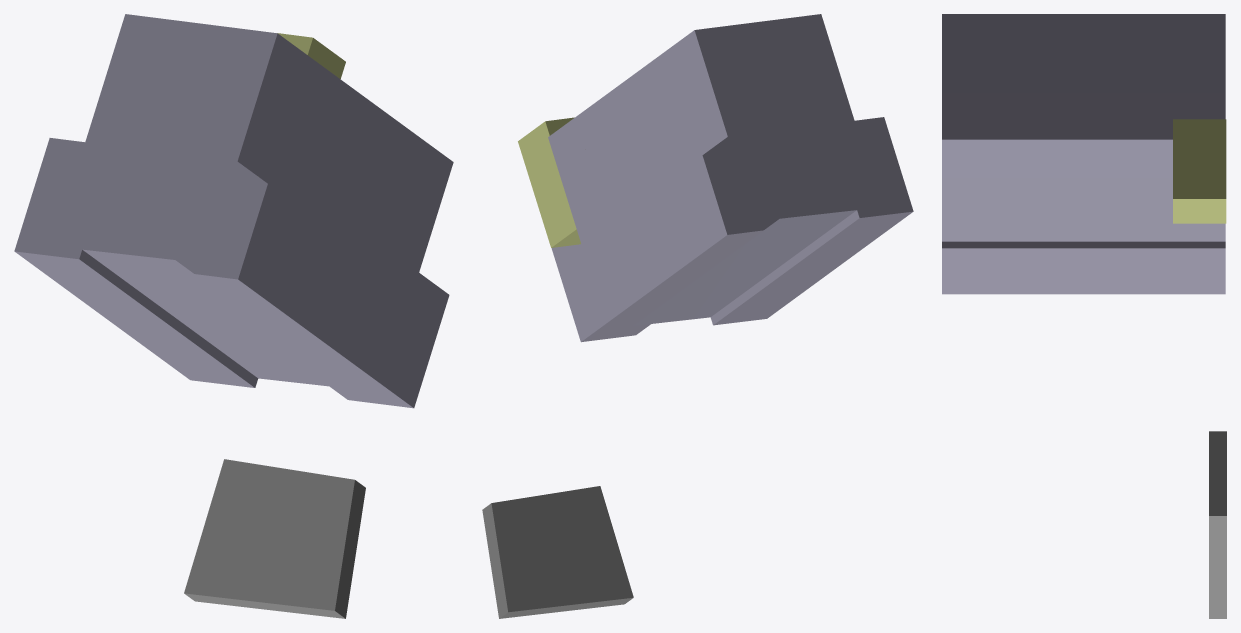
3 renders of one model, left to right at view 1: azimuth 30°, elevation 25°; view 2: azimuth 150°, elevation 25°; view 3: azimuth 270°, elevation 25°, orthographic. The views are drawn at different scales.
Parts seen in each view (by area): view 1: 0_3_1_3_3_3_2_2; view 2: 0_3_1_3_3_3_2_2; view 3: 0_3_1_3_3_3_2_2.
Part boxes in pixels (x1,y1,x2,y2): 0_3_1_3_3_3_2_2: [14, 14, 453, 618]; 0_3_1_3_3_3_2_2: [482, 14, 913, 618]; 0_3_1_3_3_3_2_2: [942, 14, 1226, 618].
Bounding box in the file's own units: 53.75 × 97.59 × 48.2.
